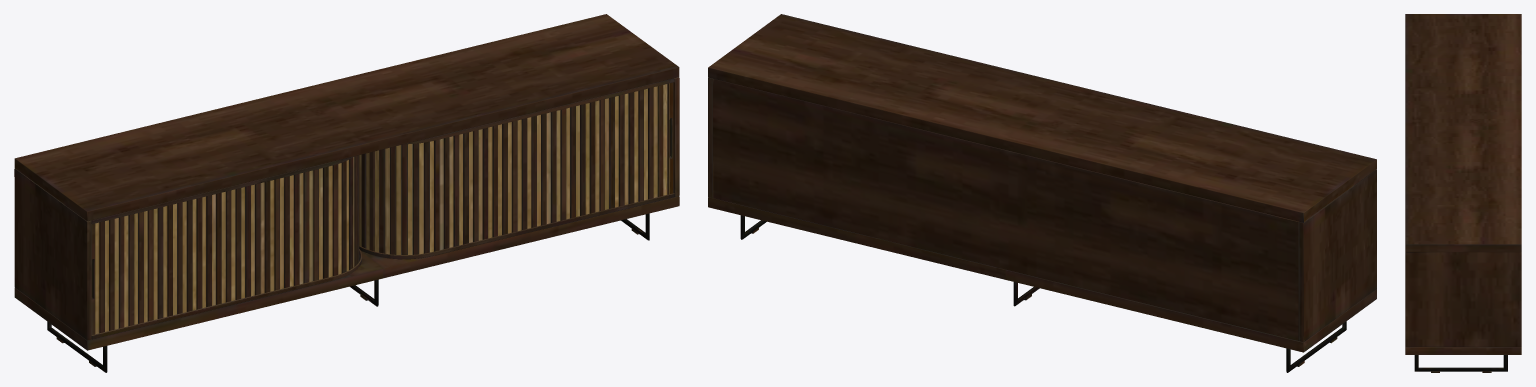
The model's file is modern_wooden_cabinet.glb.
The picture shows the model from 3 angles, left to right: view 1: azimuth 30°, elevation 25°; view 2: azimuth 150°, elevation 25°; view 3: azimuth 270°, elevation 25°; orthographic projection. The views are drawn at different scales.
Visible parts, largest first — view 1: modern_wooden_cabinet_body, modern_wooden_cabinet_door_l; view 2: modern_wooden_cabinet_body; view 3: modern_wooden_cabinet_body.
Boxes of the visible parts, x1=… form: modern_wooden_cabinet_body: x1=14, y1=14, x2=679, y2=372; modern_wooden_cabinet_door_l: x1=91, y1=82, x2=673, y2=334; modern_wooden_cabinet_body: x1=708, y1=14, x2=1376, y2=372; modern_wooden_cabinet_body: x1=1405, y1=14, x2=1521, y2=372.
Size of the model in its own units: 2.44 by 0.6801 by 0.5201.
Materials: 1 (1 with a texture image).
